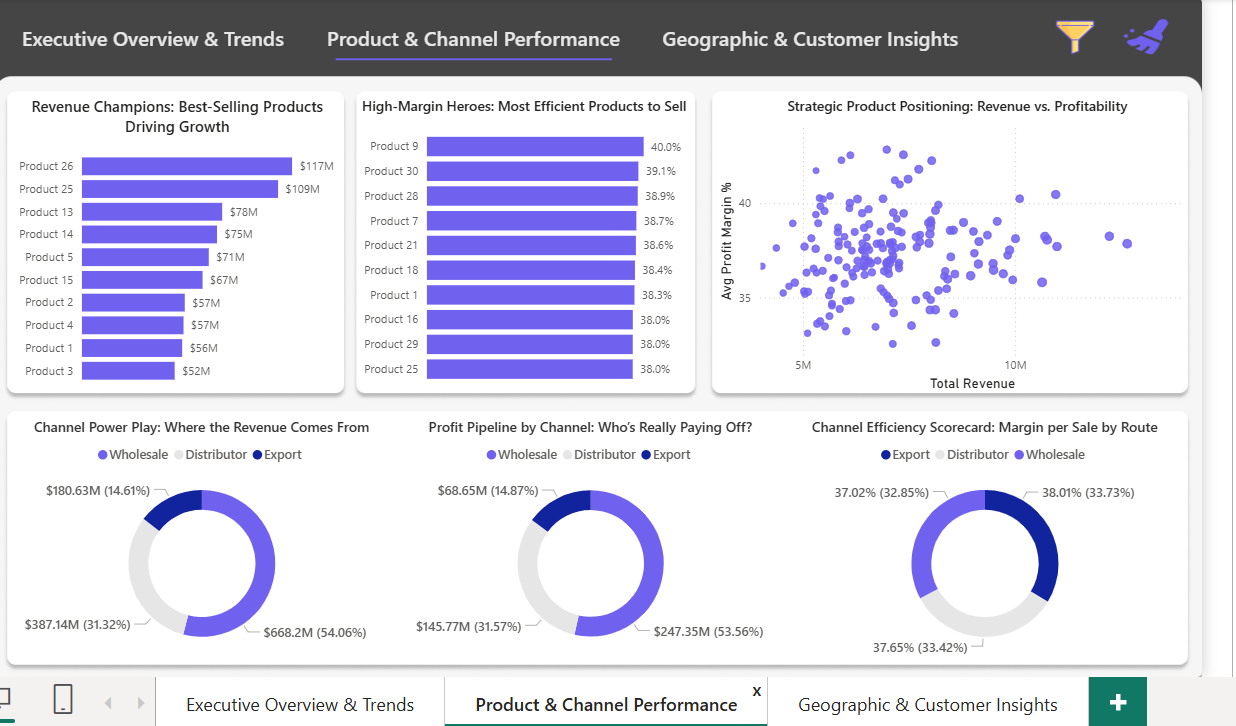

Layout of this report page (visuals, bound fields, positions):
{"tool":"powerbi","page":{"name":"Product & Channel Performance","canvas":[1280,720],"ordinal":1},"visuals":[{"type":"barChart","title":"Revenue Champions: Best-Selling Products Driving Growth","fields":{"Category":["Sales_data.product_name"],"Y":["Measures_.Total Revenue"]},"box":[16,103,357,316],"z":0},{"type":"scatterChart","title":"Strategic Product Positioning: Revenue vs. Profitability","fields":{"X":["Customer Summary.Total Revenue"],"Y":["Customer Summary.Avg Profit Margin %"],"Size":["Sum(Customer Summary.Order Count)"]},"box":[764,103,516,317],"z":1000},{"type":"barChart","title":"High-Margin Heroes: Most Efficient Products to Sell","fields":{"Category":["Sales_data.product_name"],"Y":["Measures_.Profit Margin %"]},"box":[382,103,361,316],"z":2000},{"type":"donutChart","title":"Channel Power Play: Where the Revenue Comes From","fields":{"Category":["Sales_data.channel"],"Y":["Measures_.Total Revenue"]},"box":[16.7,443.3,408.3,261.7],"z":3000},{"type":"donutChart","title":"Profit Pipeline by Channel: Who’s Really Paying Off?","fields":{"Category":["Sales_data.channel"],"Y":["Measures_.Total Profit"]},"box":[436.7,443.3,390,261.7],"z":4000},{"type":"donutChart","title":"Channel Efficiency Scorecard: Margin per Sale by Route","fields":{"Category":["Sales_data.channel"],"Y":["Measures_.Profit Margin %"]},"box":[843.3,443.3,415,261.7],"z":5000},{"type":"actionButton","box":[337.2,14.1,342.3,55.1],"z":6000},{"type":"actionButton","box":[9,14.1,317.9,55.1],"z":7000},{"type":"actionButton","box":[695,13.8,341.2,55],"z":8000},{"type":"actionButton","box":[1188,14,70,55],"z":9000},{"type":"actionButton","box":[1120,21,53,42],"z":10000}]}

Visuals, with their boxes on the page's 1280x720 design canvas (x1, y1, x2, y2). These are canvas units, not pixel positions in the 1236x726 screenshot, which may show the page scaled, cropped or inside an application window:
"Revenue Champions: Best-Selling Products Driving Growth" barChart: detection(16, 103, 373, 419)
"Strategic Product Positioning: Revenue vs. Profitability" scatterChart: detection(764, 103, 1280, 420)
"High-Margin Heroes: Most Efficient Products to Sell" barChart: detection(382, 103, 743, 419)
"Channel Power Play: Where the Revenue Comes From" donutChart: detection(17, 443, 425, 705)
"Profit Pipeline by Channel: Who’s Really Paying Off?" donutChart: detection(437, 443, 827, 705)
"Channel Efficiency Scorecard: Margin per Sale by Route" donutChart: detection(843, 443, 1258, 705)
actionButton: detection(337, 14, 680, 69)
actionButton: detection(9, 14, 327, 69)
actionButton: detection(695, 14, 1036, 69)
actionButton: detection(1188, 14, 1258, 69)
actionButton: detection(1120, 21, 1173, 63)
